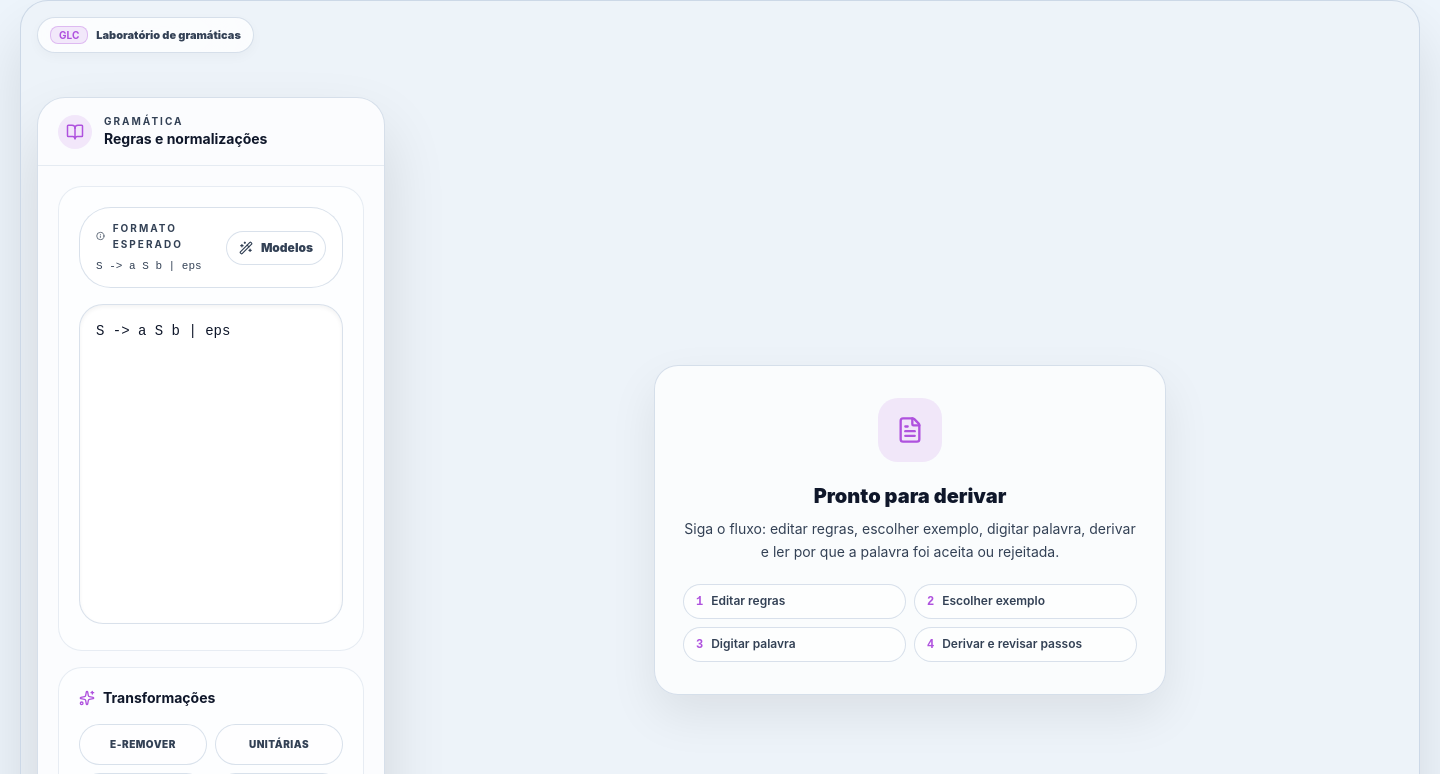
Test case: GrammarWorkspace › mantém modelos de gramática em modal compacto
Click the button "Modelos". click: (276, 248)
box: [226,231,326,265]
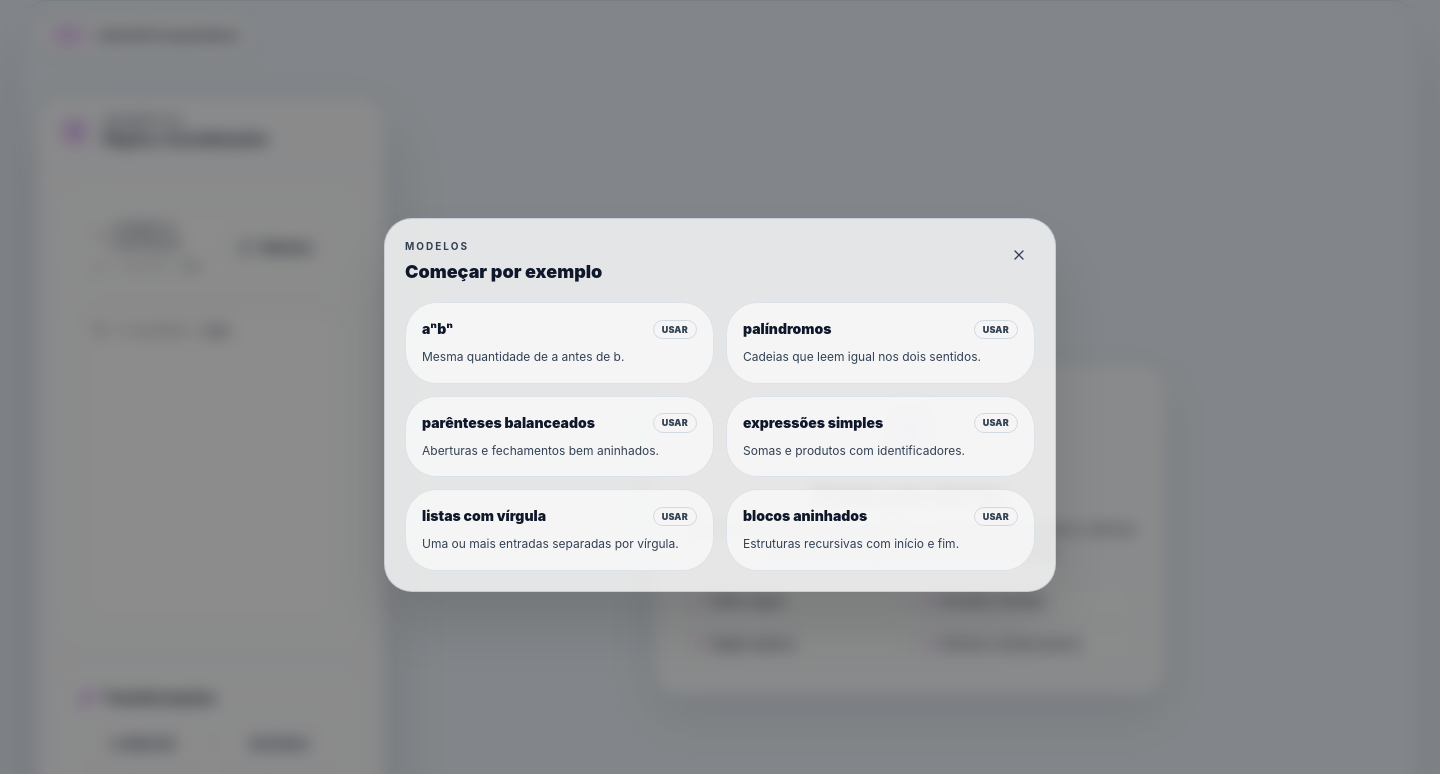
Expected: the dialog "Começar por exemplo" is shown, [384,218,1056,592]
Expected: the button with aria-label "Carregar aⁿbⁿ" is shown, [405,302,714,384]
Expected: the button with aria-label "Carregar parênteses balanceados" is shown, [405,396,714,477]
